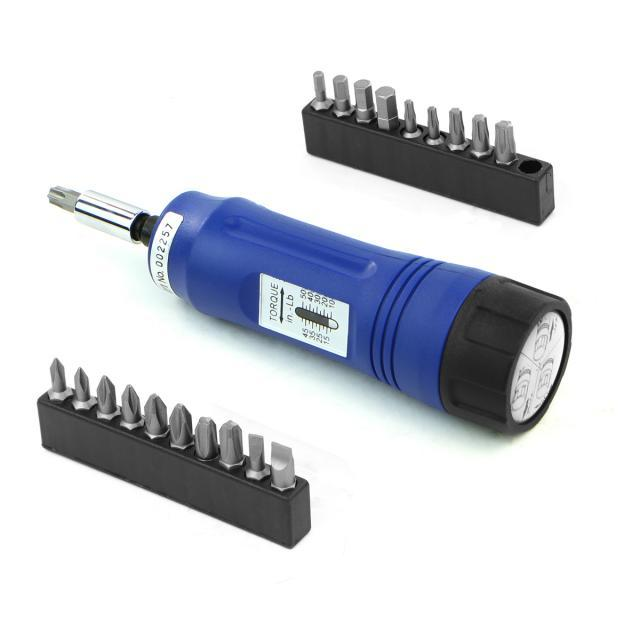screwdriver: (42, 177, 575, 443)
